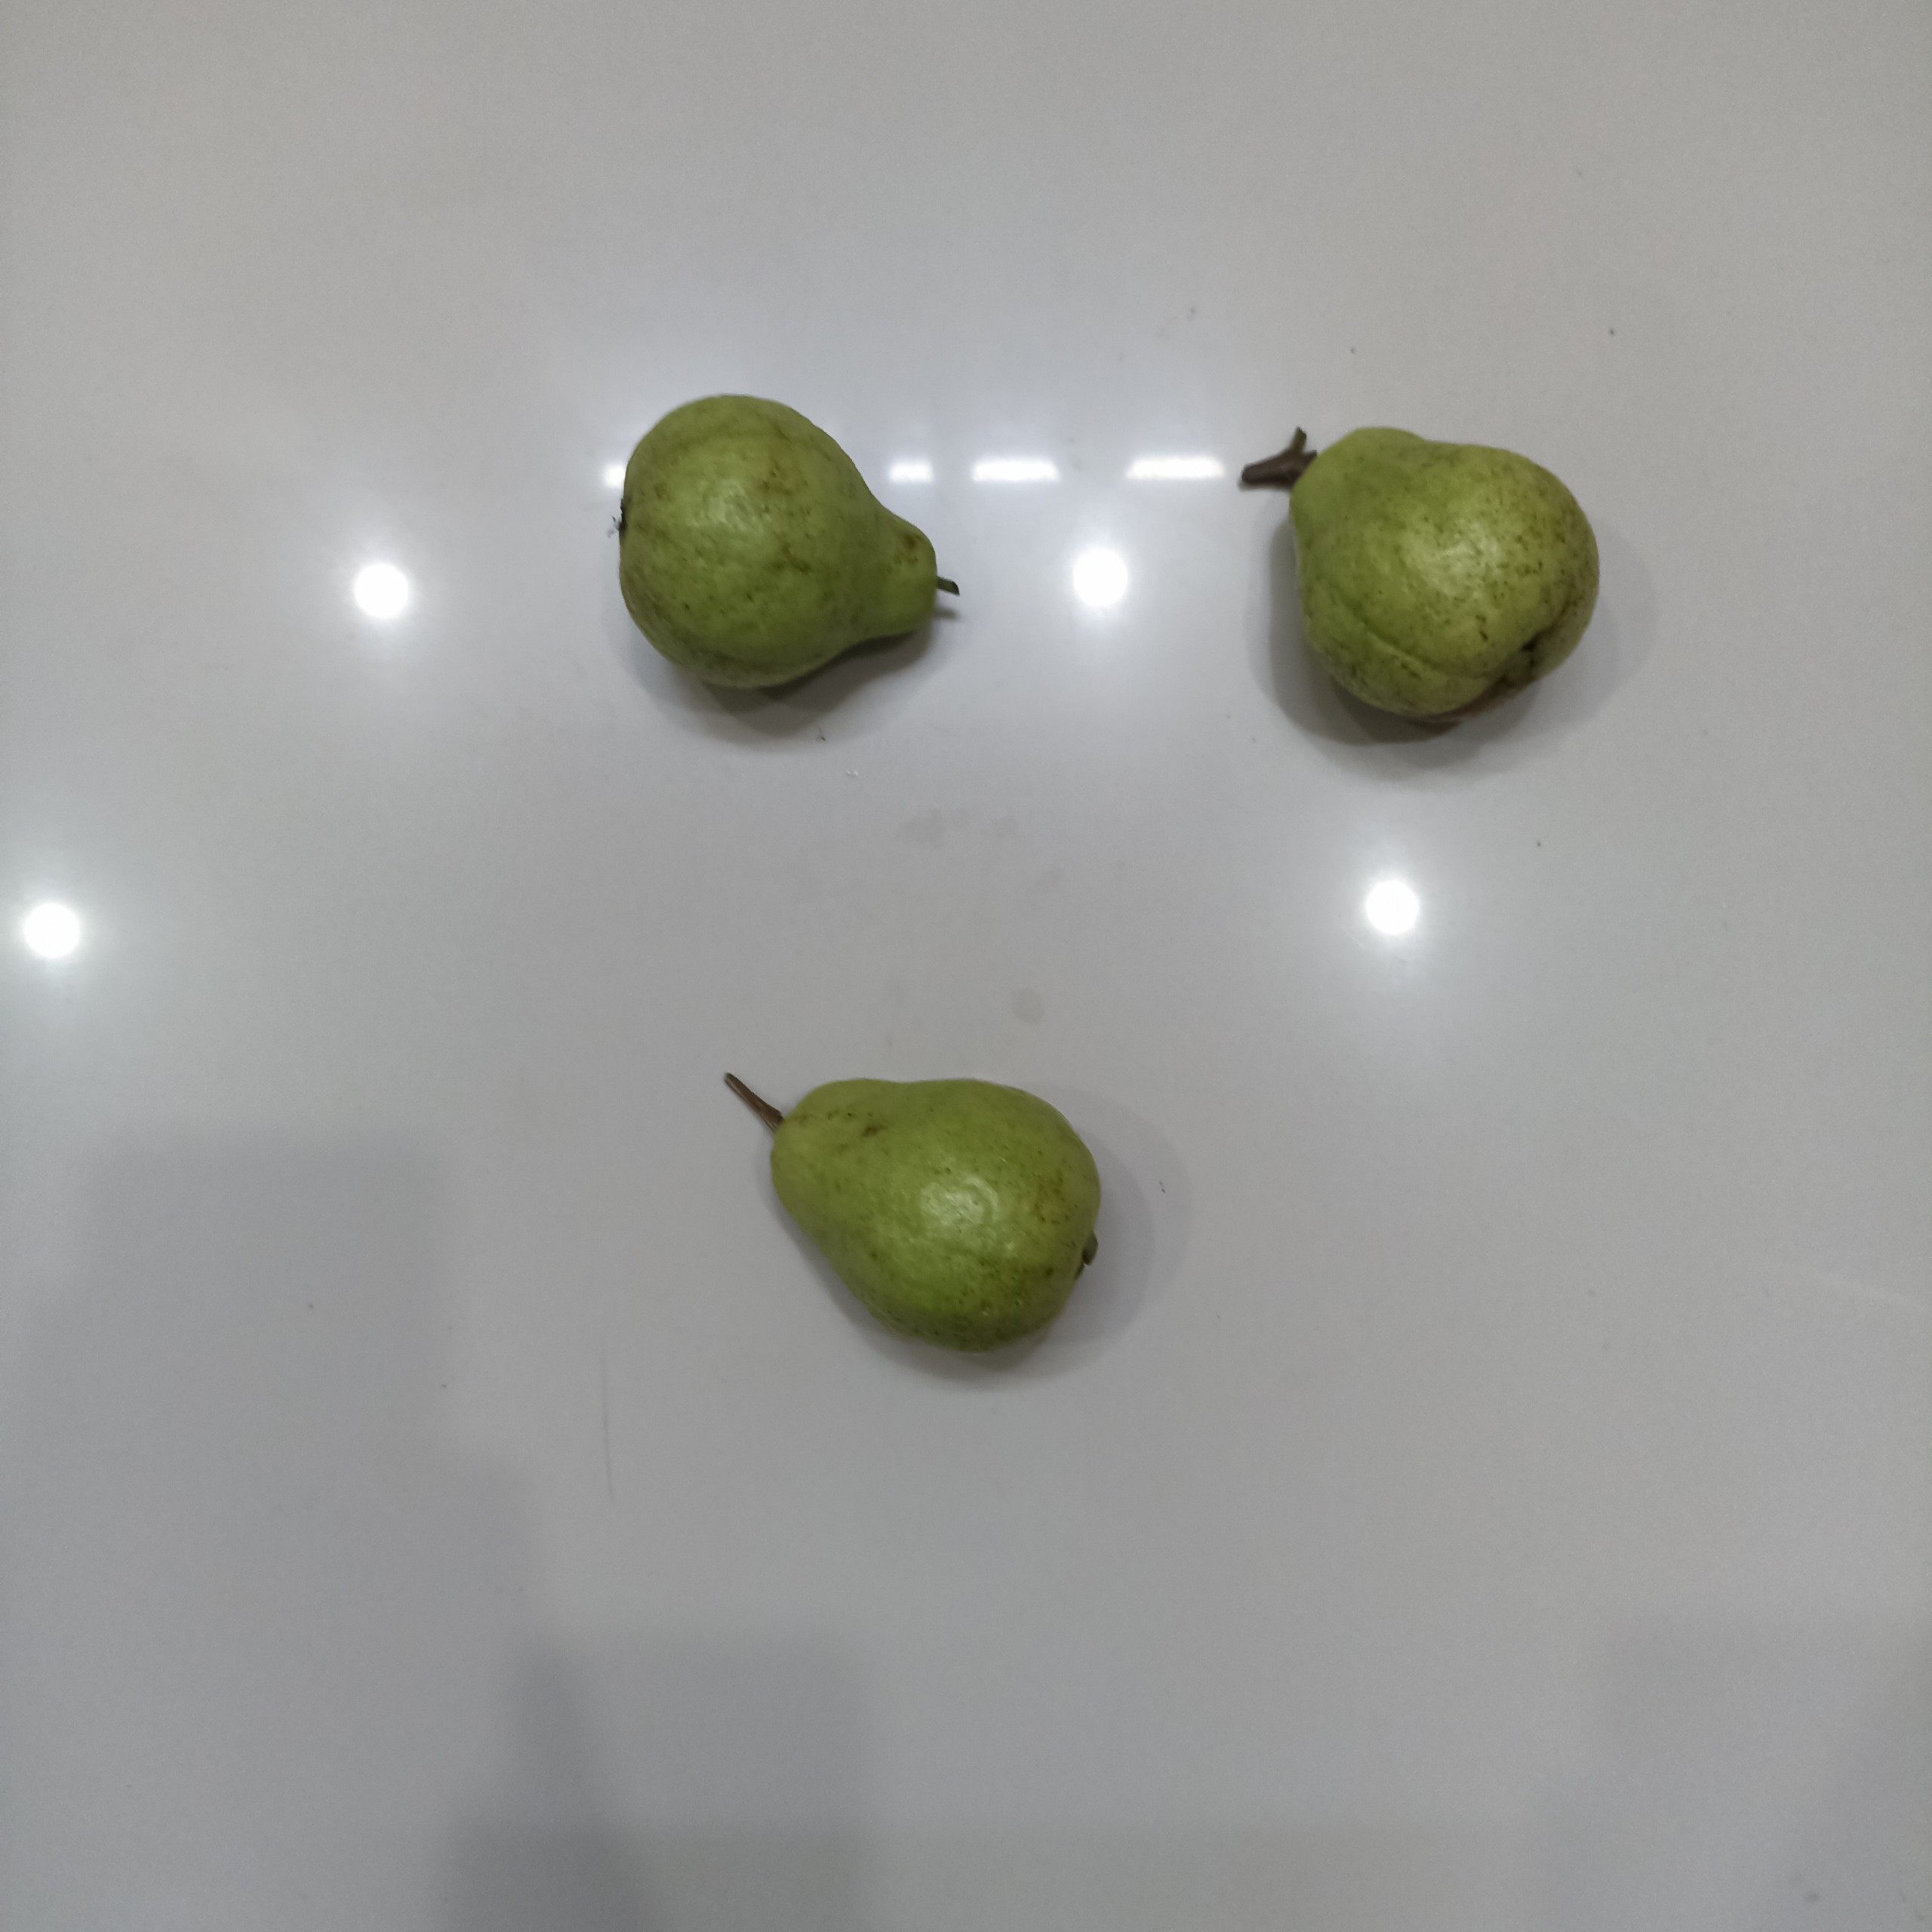Oi: (609, 389, 948, 699), (748, 1069, 1106, 1361), (1277, 426, 1605, 729)
